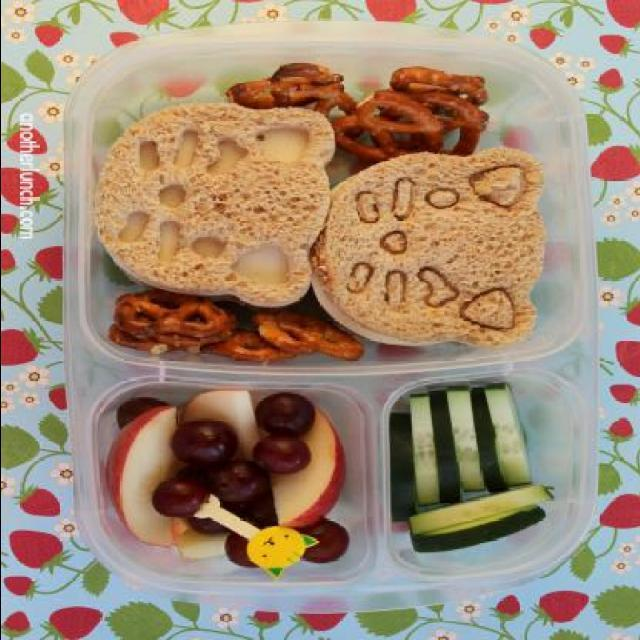Zucchini: (401, 482, 559, 538), (406, 504, 548, 554), (484, 382, 536, 489), (441, 382, 485, 496), (404, 393, 444, 513)
